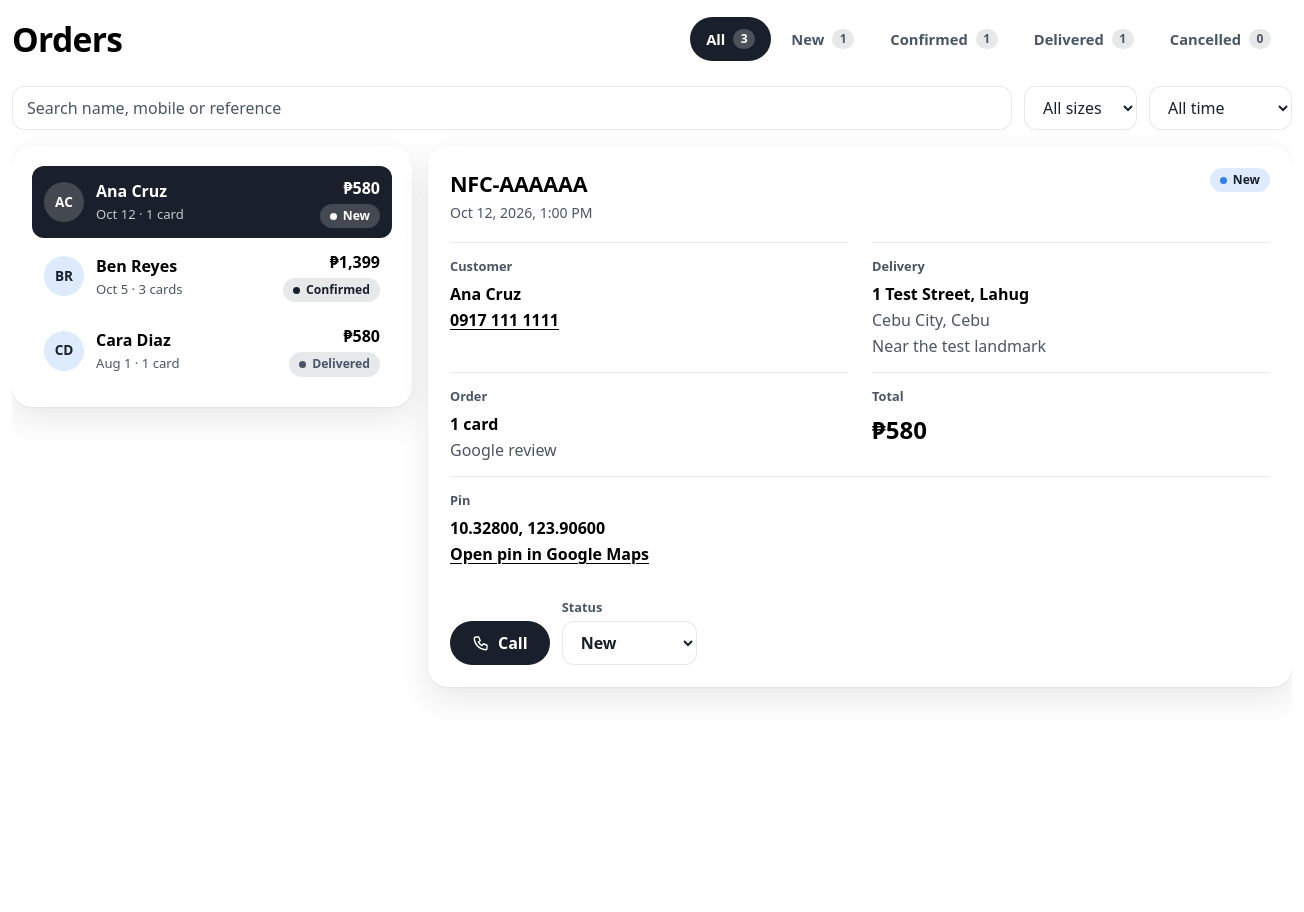
Scenario: OrdersPage › searches by name, mobile number or place
Type "davao" into the search field. click: (512, 108)
box: [12, 86, 1012, 130]
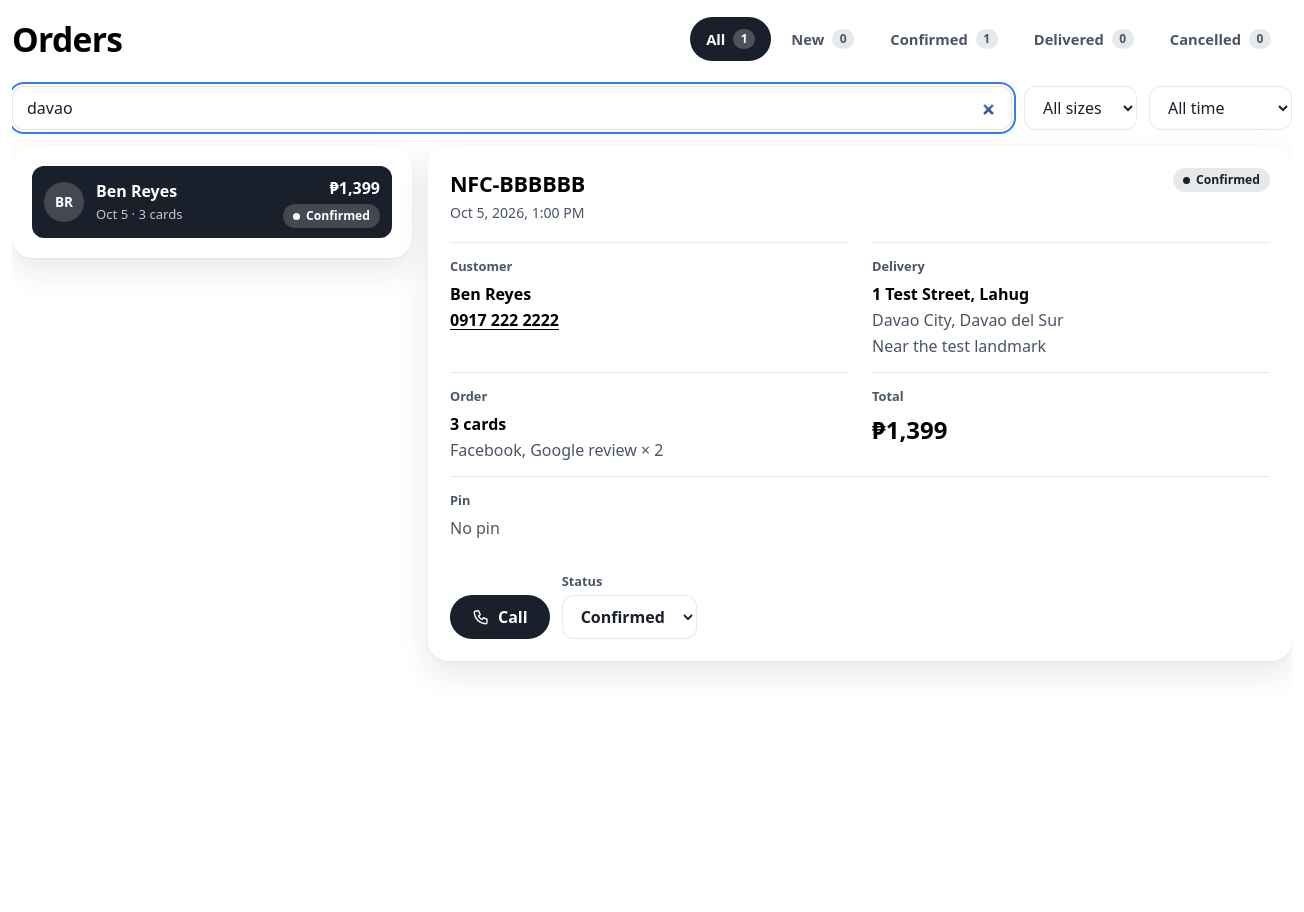
Replace the text in the search field with "0917 111 1111". click: (512, 108)
box: [12, 86, 1012, 130]
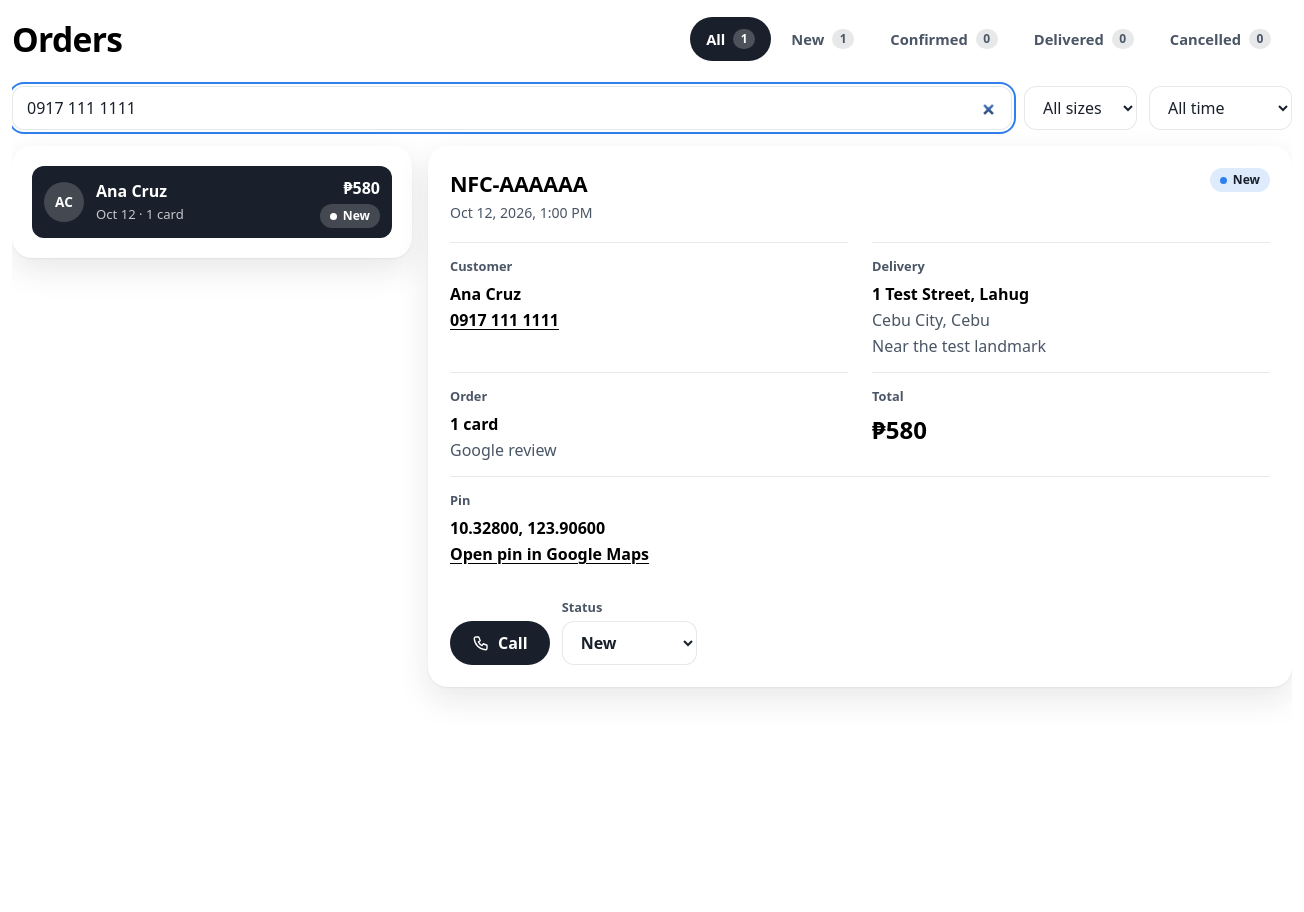
Replace the text in the search field with "nobody". click: (512, 108)
box: [12, 86, 1012, 130]
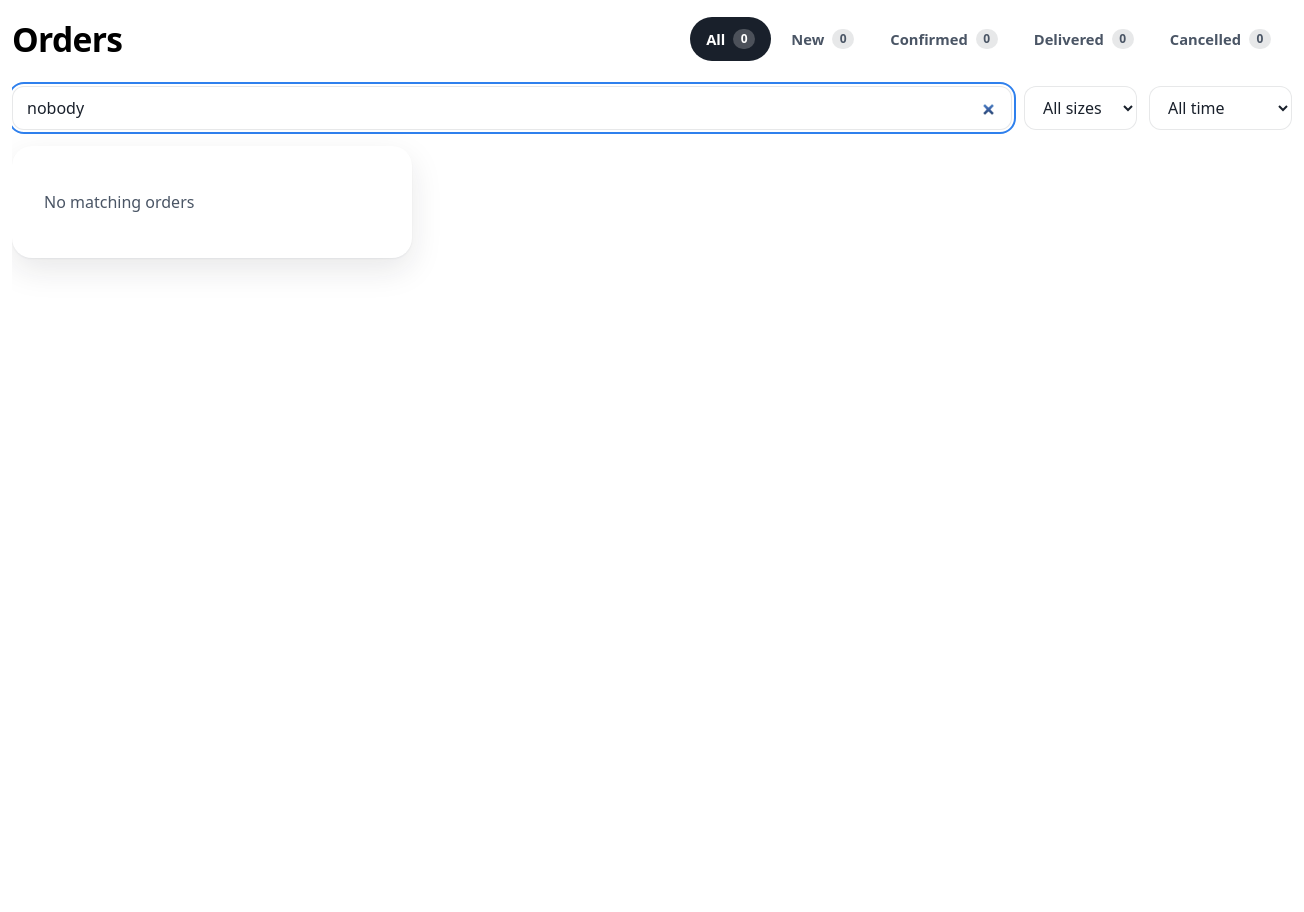
Result: the text "No matching orders" is shown at [44, 191, 194, 213]
